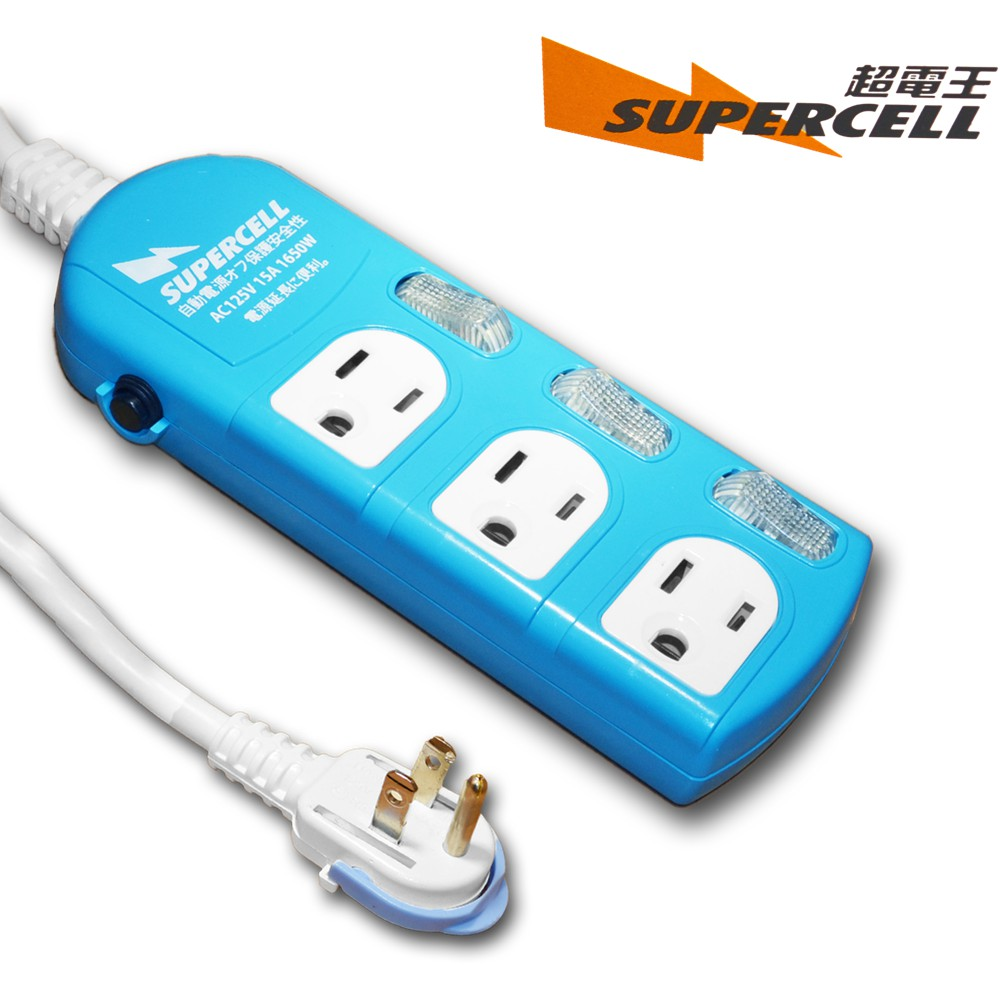socket: (1, 113, 872, 806)
